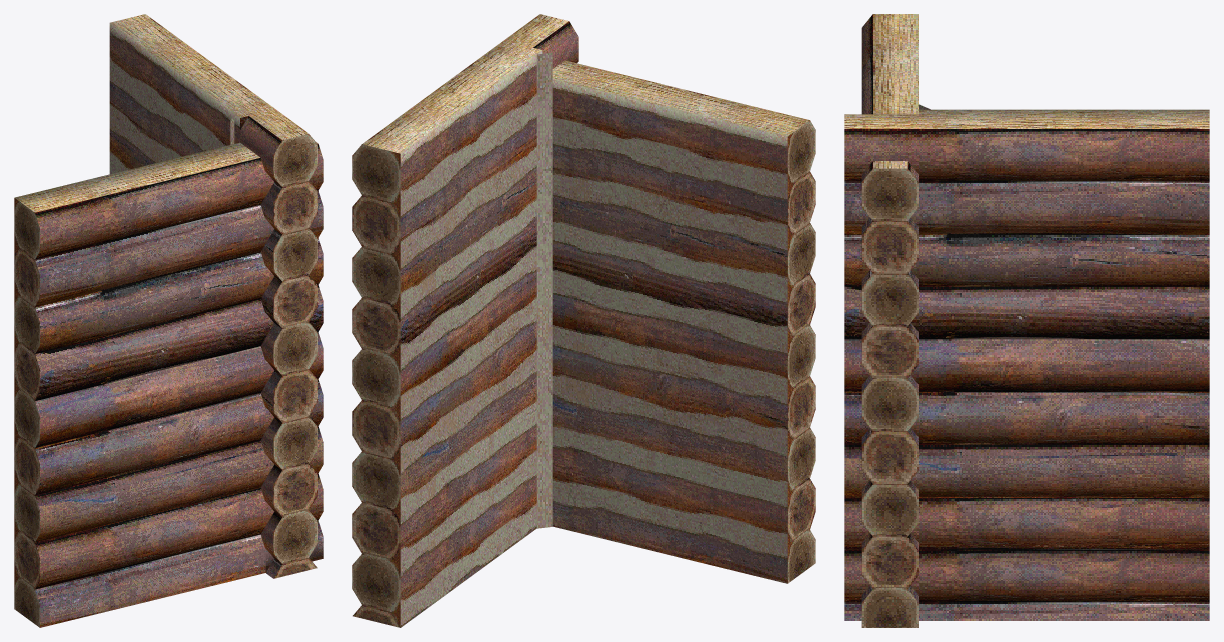
Rendered from wall-corner-AB.glb.
3 views of the same model, side by side, from view 1: azimuth 30°, elevation 25°; view 2: azimuth 150°, elevation 25°; view 3: azimuth 270°, elevation 25° (orthographic). The views are drawn at different scales.
Visible parts, largest first — view 1: wall-corner-AB.001; view 2: wall-corner-AB.001; view 3: wall-corner-AB.001.
Boxes of the visible parts, <box> form: wall-corner-AB.001: <box>14,14,323,627</box>; wall-corner-AB.001: <box>352,14,815,627</box>; wall-corner-AB.001: <box>844,14,1209,627</box>.
Size of the model in its own units: 2.1 by 3.09 by 2.1.
2 materials, 2 textured.
